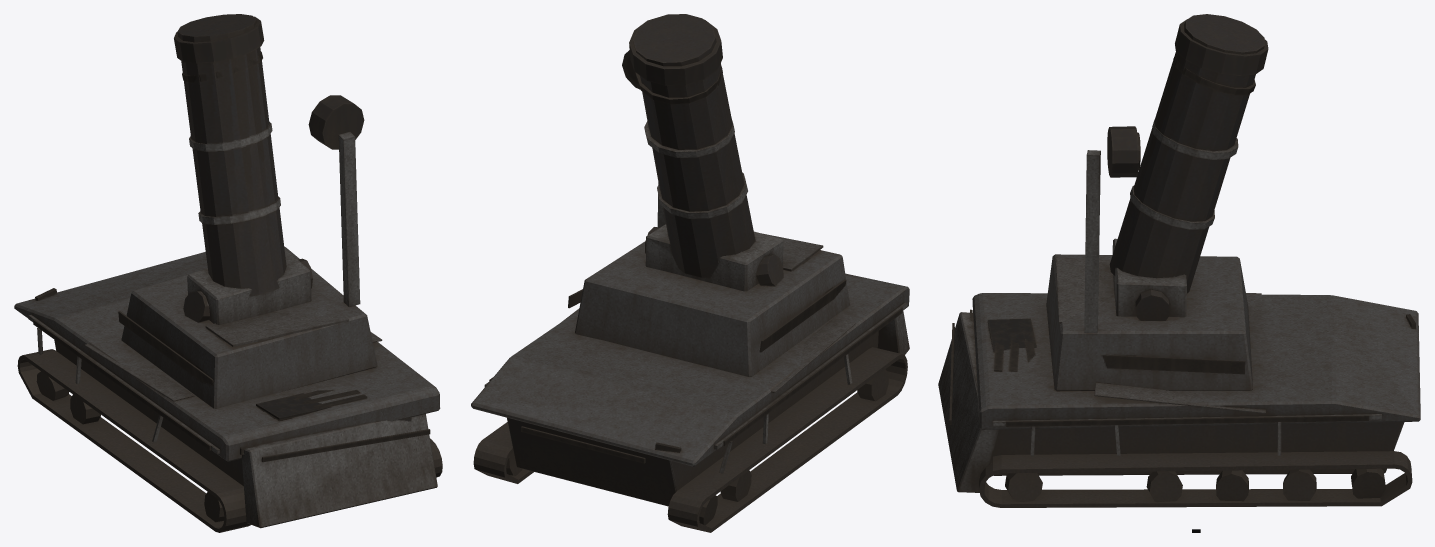
The model's file is chs_cyclops_wreck.fbx.
3 renders of one model, left to right at view 1: azimuth 30°, elevation 25°; view 2: azimuth 150°, elevation 25°; view 3: azimuth 270°, elevation 25°, orthographic. The views are drawn at different scales.
Parts seen in each view (by area): view 1: turret_bar, base_bar, trackL_bar, barrel_bar; view 2: turret_bar, base_bar, trackL_bar, barrel_bar, trackR_bar; view 3: base_bar, turret_bar, trackR_bar, barrel_bar.
Boxes of the visible parts, x1,y1,x2,y2 form: turret_bar: (118,14,377,408); base_bar: (14,252,440,528); trackL_bar: (17,349,250,532); barrel_bar: (183,248,312,324); turret_bar: (568,14,849,376); base_bar: (471,273,909,506); trackL_bar: (667,347,907,532); barrel_bar: (645,224,783,291); trackR_bar: (473,422,533,483); base_bar: (938,293,1420,492); turret_bar: (1046,14,1268,391); trackR_bar: (979,451,1412,507); barrel_bar: (1112,238,1186,320).
Size of the model in its own units: 644 by 1277 by 1100.
Materials: 2 (2 with a texture image).
